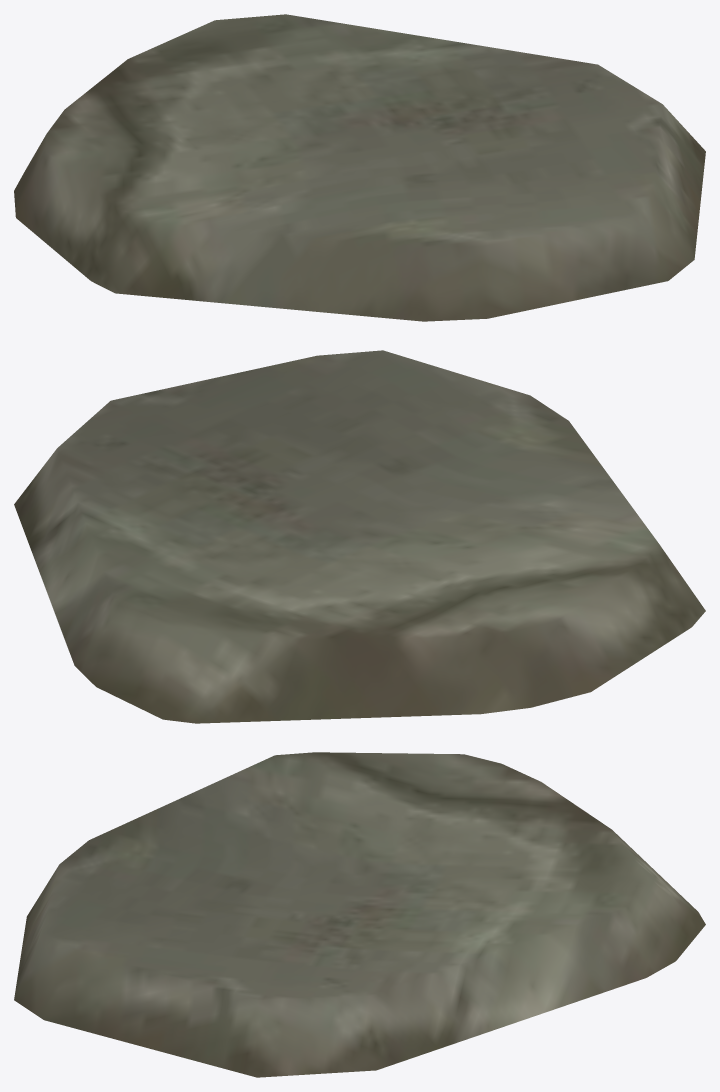
3 renders of one model, top to bottom at view 1: azimuth 30°, elevation 25°; view 2: azimuth 150°, elevation 25°; view 3: azimuth 270°, elevation 25°, orthographic. The views are drawn at different scales.
Bounding box in the file's own units: 1.82 × 0.1684 × 1.86.
1 material, 1 textured.
